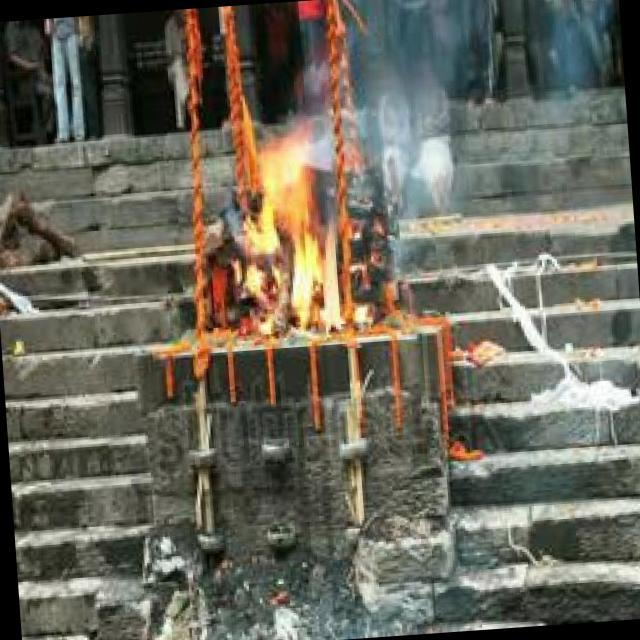Fire: (233, 134, 349, 344)
